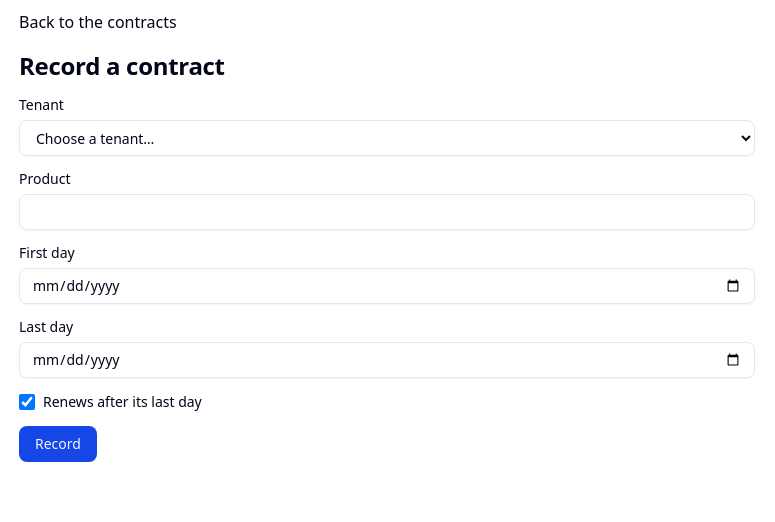
Scenario: a contract renews unless staff say otherwise
Step 1. Select "tenant-b" in the dropdown labelled "Tenant" → (387, 138), box [19,120,755,156]
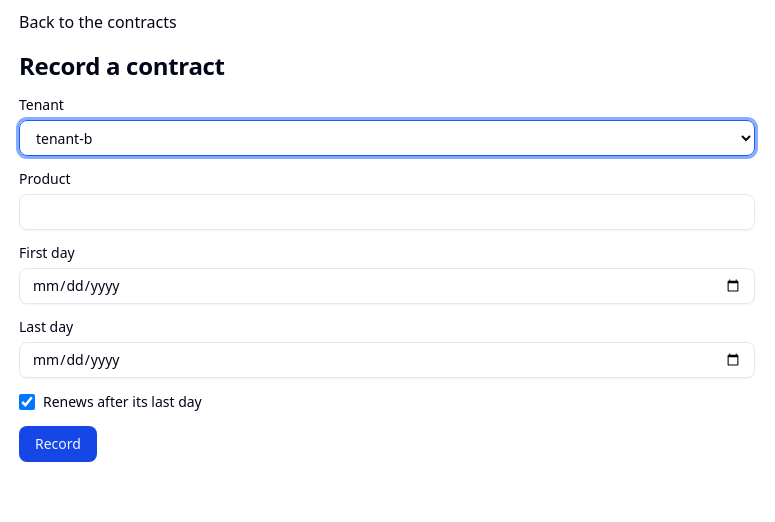
Step 2. Type "Hosting" into the field labelled "Product" → (387, 212), box [19,194,755,230]
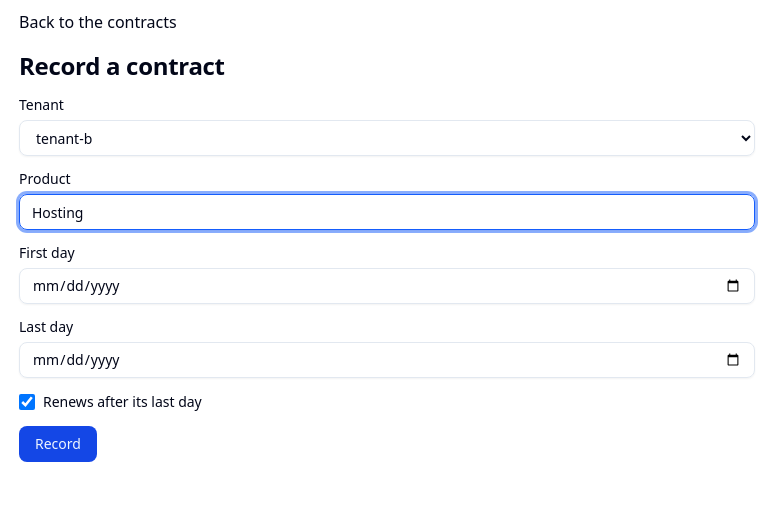
Step 3. Type "2026-01-01" into the date field labelled "First day" → (387, 286), box [19,268,755,304]
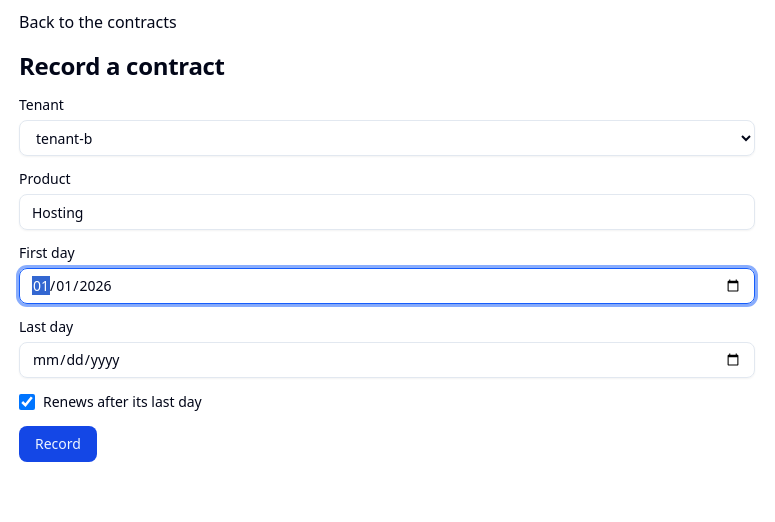
Step 4. Type "2026-12-31" into the date field labelled "Last day" → (387, 360), box [19,342,755,378]
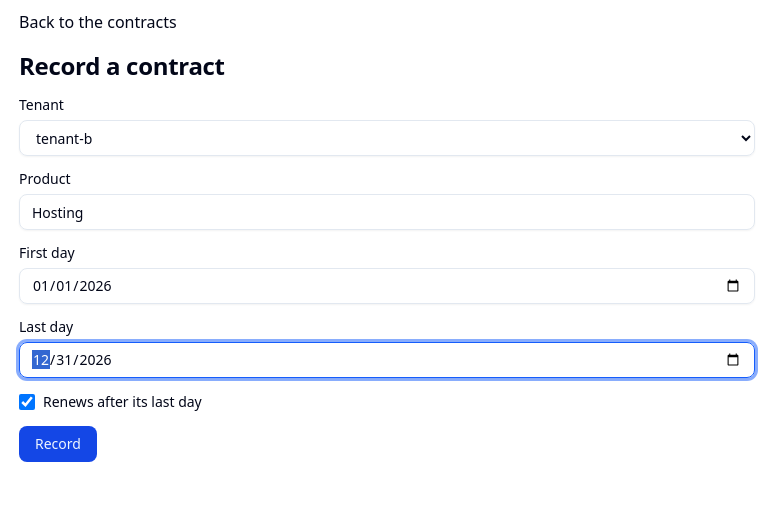
Step 5. Click the button "Record" → click(58, 444), box [19,426,97,462]
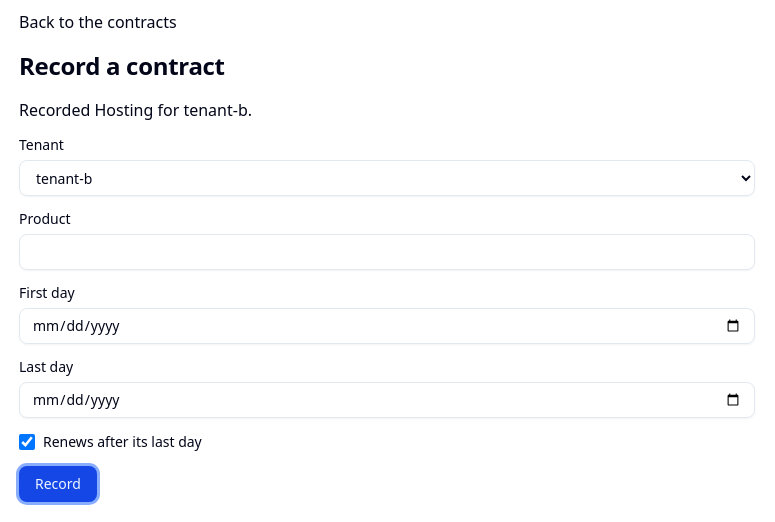
Result: the message "Recorded Hosting for tenant-b." is shown at [19,99,252,121]
